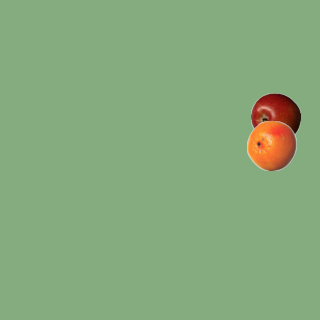Apple Braeburn: (250, 92, 300, 142)
Grapefruit Pink: (246, 120, 296, 170)
